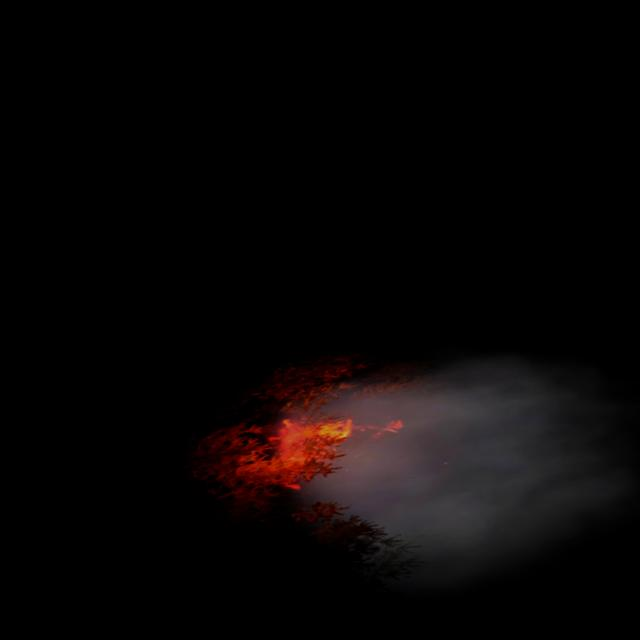fire: (268, 391, 414, 476)
smoke: (255, 289, 640, 640)
